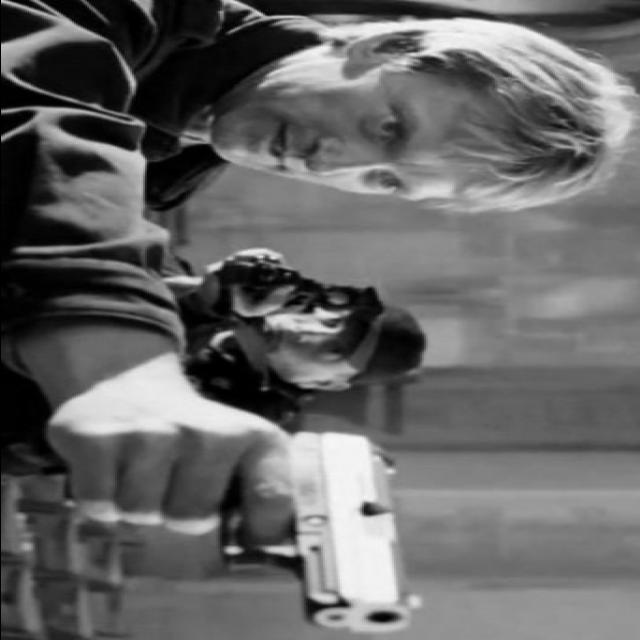weapons: (172, 422, 434, 640), (198, 243, 380, 329)
